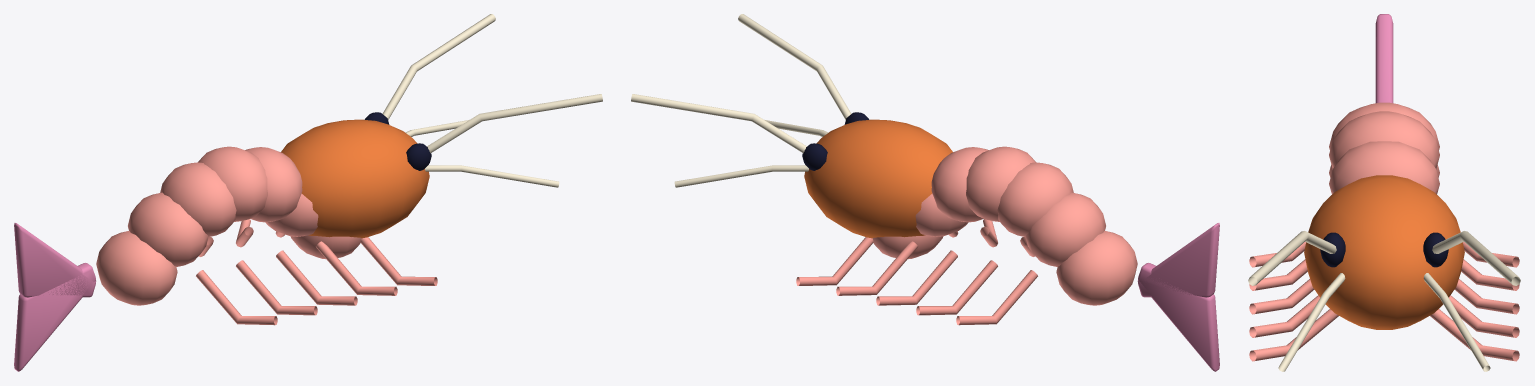
File: r012_reef_shrimp_role_shrimp.glb
The picture shows the model from 3 angles, left to right: view 1: azimuth 30°, elevation 25°; view 2: azimuth 150°, elevation 25°; view 3: azimuth 270°, elevation 25°; orthographic projection. The views are drawn at different scales.
Visible parts, largest first — view 1: r012_reef_shrimp_role_shrimp.001; view 2: r012_reef_shrimp_role_shrimp.001; view 3: r012_reef_shrimp_role_shrimp.001.
Part boxes in pixels (x1,y1,x2,y2): r012_reef_shrimp_role_shrimp.001: (14, 14, 602, 371); r012_reef_shrimp_role_shrimp.001: (631, 14, 1219, 371); r012_reef_shrimp_role_shrimp.001: (1248, 14, 1520, 371).
Size of the model in its own units: 5.06 by 1.7 by 1.87.
